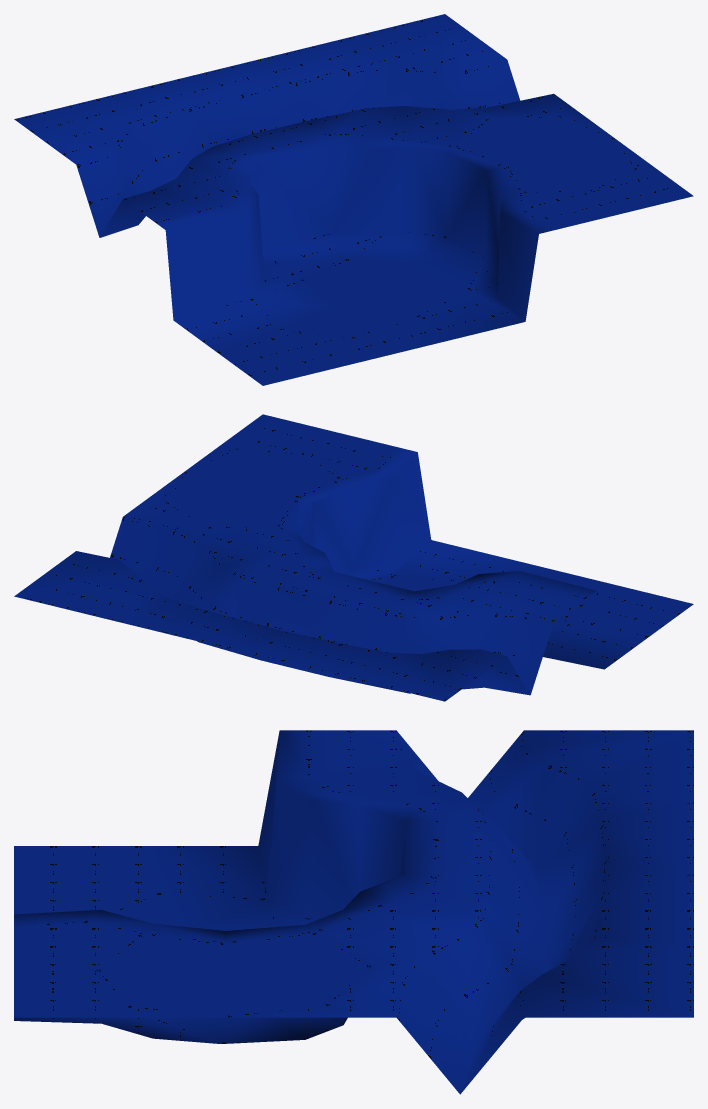
The model's file is GRD_S_C5_R3_2.fbx.
3 views of the same model, one above another, from view 1: azimuth 30°, elevation 25°; view 2: azimuth 150°, elevation 25°; view 3: azimuth 270°, elevation 25° (orthographic). The views are drawn at different scales.
Parts seen in each view (by area): view 1: material_00022000, material_00042000, material_C0012000, material_C0032000; view 2: material_00022000, material_C0032000, material_00042000, material_C0012000; view 3: material_00022000, material_C0032000, material_00042000, material_C0012000.
Part boxes in pixels (left/top/right/bottom): material_00022000: left=14, top=14, right=693, bottom=385; material_00042000: left=154, top=133, right=558, bottom=321; material_C0012000: left=249, top=116, right=637, bottom=338; material_C0032000: left=76, top=59, right=520, bottom=237; material_00022000: left=14, top=414, right=693, bottom=701; material_C0032000: left=110, top=517, right=553, bottom=695; material_00042000: left=279, top=447, right=596, bottom=600; material_C0012000: left=165, top=448, right=570, bottom=637; material_00022000: left=14, top=730, right=693, bottom=1043; material_C0032000: left=396, top=730, right=606, bottom=1094; material_00042000: left=14, top=730, right=440, bottom=943; material_C0012000: left=96, top=892, right=371, bottom=1043.
Bounding box in the file's own units: 12800 × 2400 × 12800.
